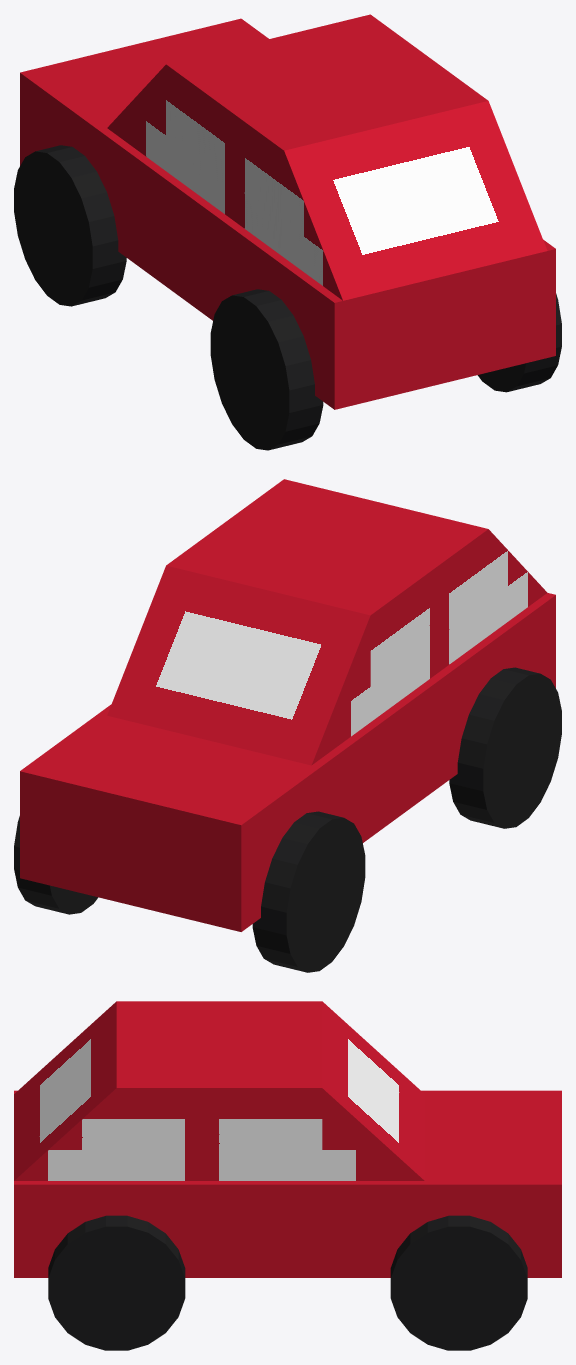
Rendered from car.gltf.
3 views of the same model, one above another, from view 1: azimuth 30°, elevation 25°; view 2: azimuth 150°, elevation 25°; view 3: azimuth 270°, elevation 25° (orthographic). The views are drawn at different scales.
Parts seen in each view (by area): view 1: cuboid (×4), cylinder (×3); view 2: cuboid (×4), cylinder (×3); view 3: cuboid (×4), cylinder (×2).
Boxes of the visible parts, x1,y1,x2,y2 form: cuboid (×4): [20, 14, 555, 409]; cylinder (×3): [14, 145, 561, 450]; cuboid (×4): [20, 479, 555, 931]; cylinder (×3): [14, 667, 561, 972]; cuboid (×4): [14, 1001, 561, 1277]; cylinder (×2): [48, 1215, 527, 1350].
Size of the model in its own units: 0.5 by 0.5 by 1.
1 material, 1 textured.
